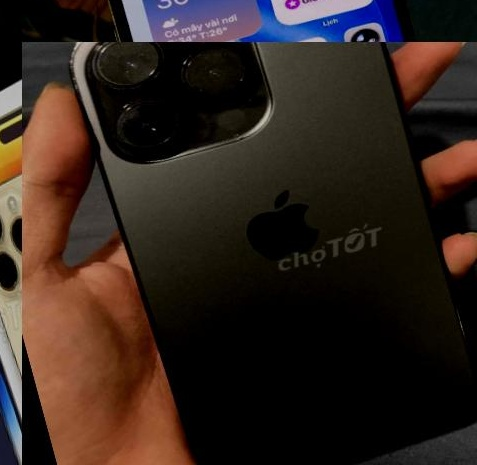scratch: (100, 84, 207, 164), (55, 42, 102, 107)
